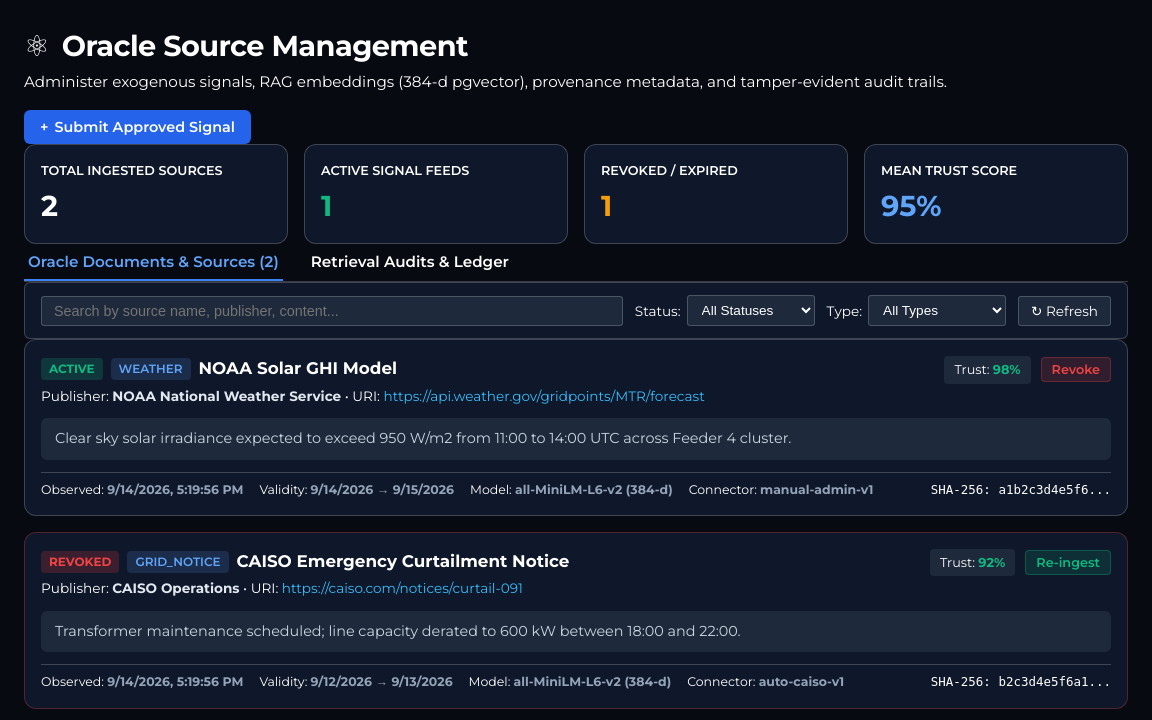
Test case: AdminOraclePage — Oracle Source Management › 2. filters sources by search input
Expected: the text "NOAA Solar GHI Model" is shown, [198,356,397,382]
In the field with placeholder "Search by source name, publisher, content...": [332, 311] box [41,296,623,326], type "CAISO"
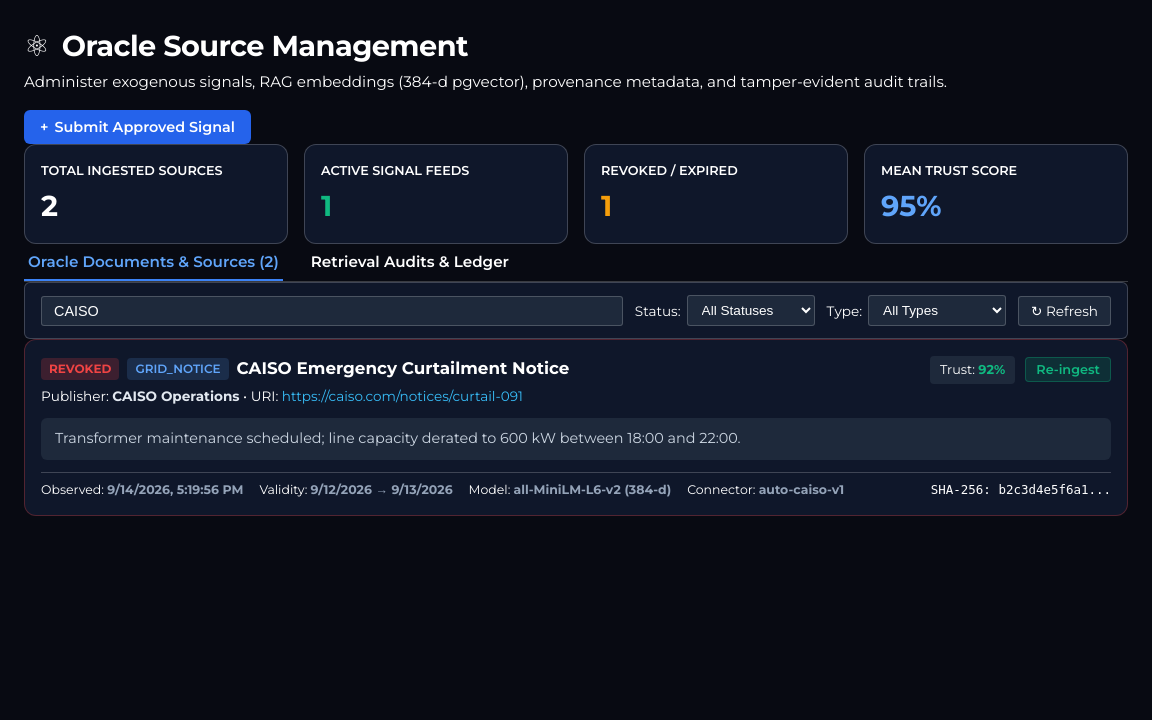
Expected: the text "CAISO Emergency Curtailment Notice" is shown, [237,356,569,382]
Expected: the text "NOAA Solar GHI Model" is gone
